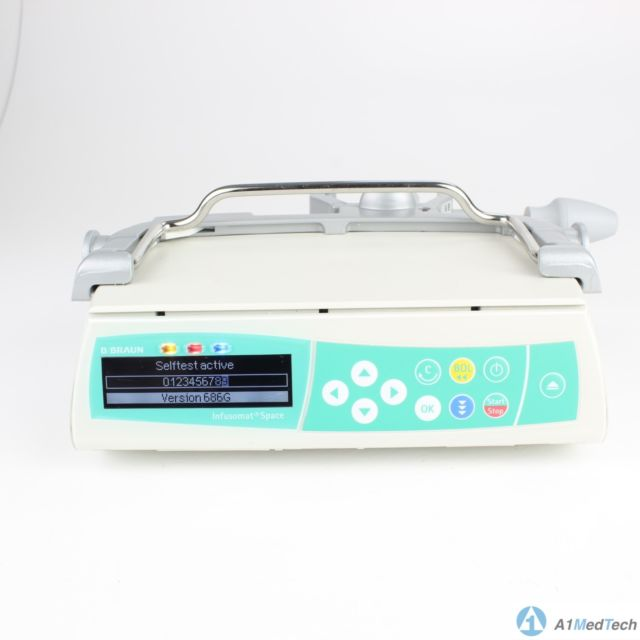BBraun Infusomat Space: (60, 230, 610, 455)
